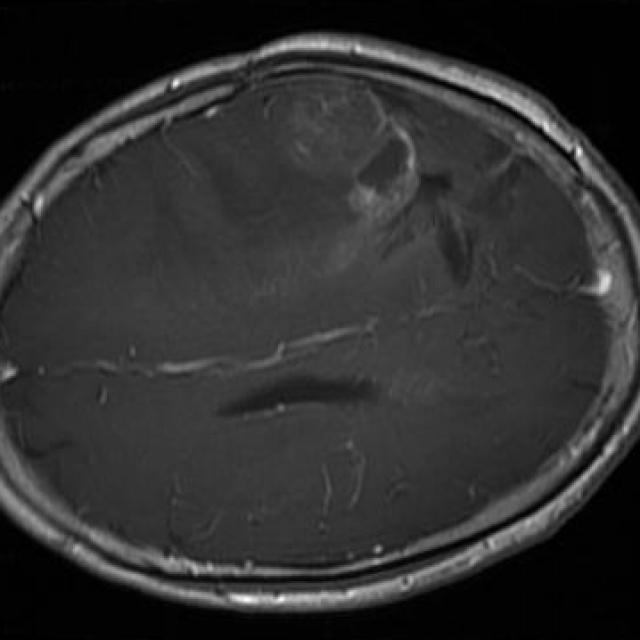glioma: (271, 77, 474, 287)
